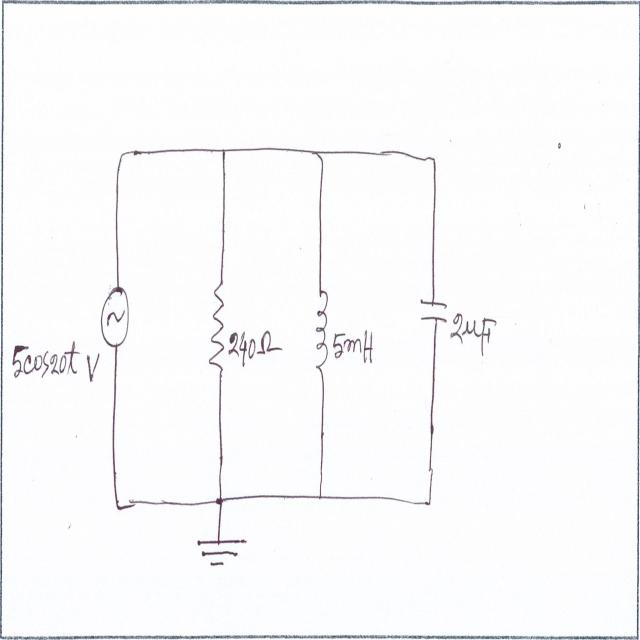ac_current: (99, 283, 135, 353)
capacitor: (417, 289, 449, 334)
ground: (194, 533, 248, 569)
inductor: (312, 289, 330, 380)
resistor: (208, 280, 229, 379)
